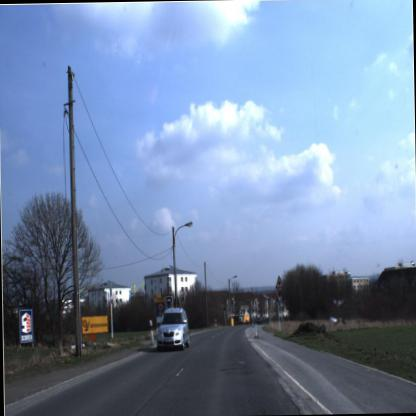danger: (274, 272, 285, 294)
